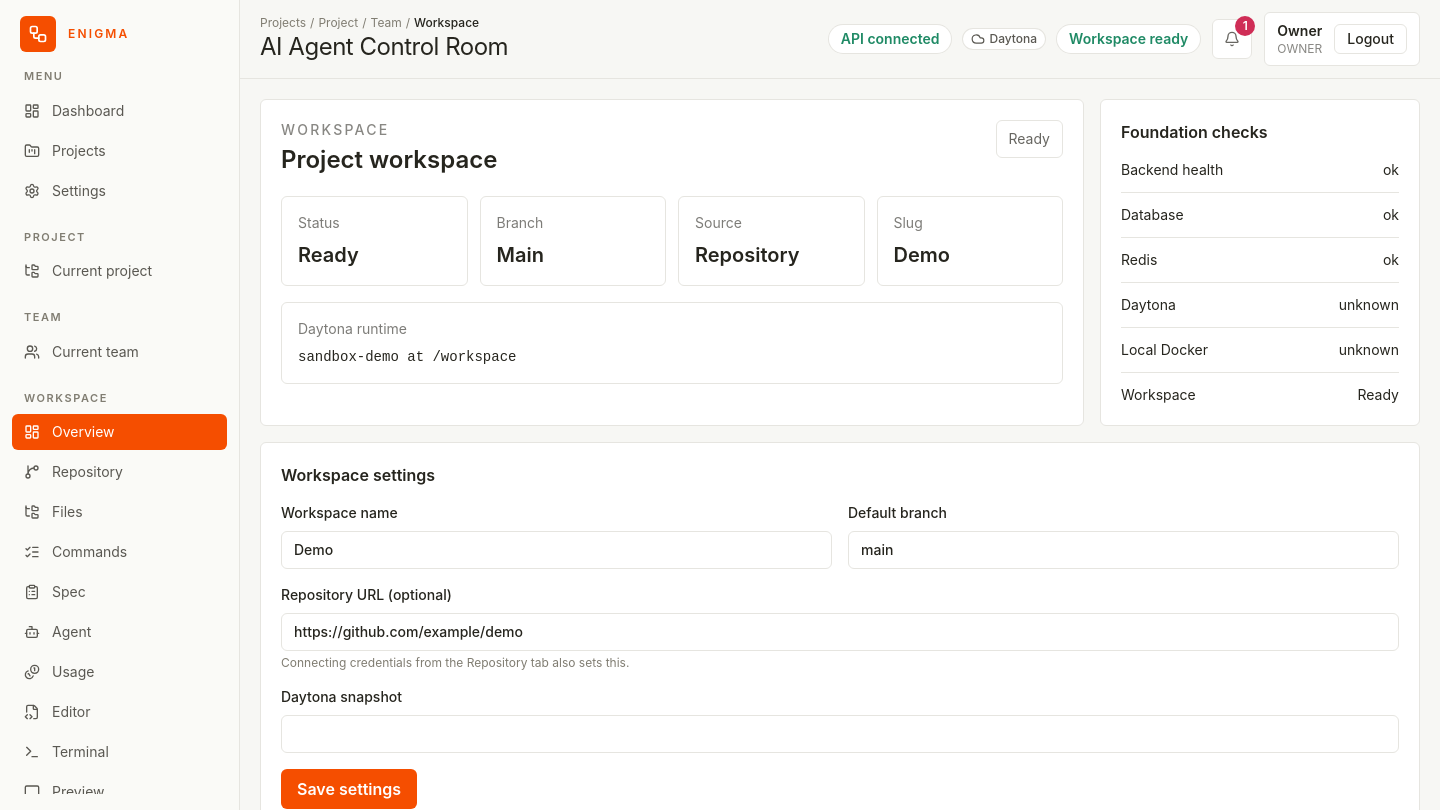
App auth routing › renders notifications and workspace audit logs
What coordinates should you click on to do the following:
click the button named "Notifications"
I would click on:
 (1232, 39)
Its box is [1212, 19, 1252, 59].
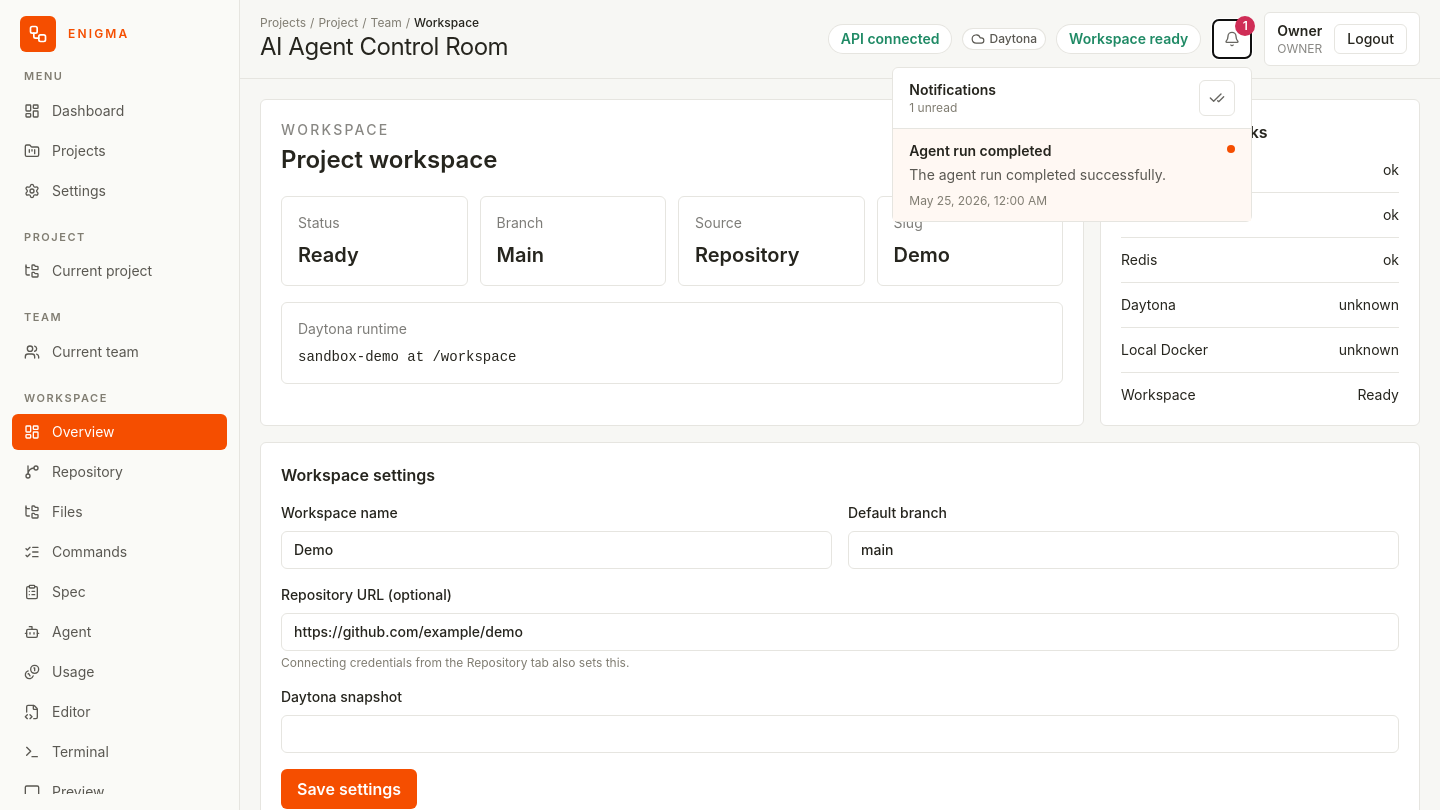
expect the text "Agent run completed" is shown: met
What coordinates should you click on to do the following:
click the text "Agent run completed"
I would click on:
 (980, 151)
Its box is [909, 141, 1051, 161].
(page scrolled)
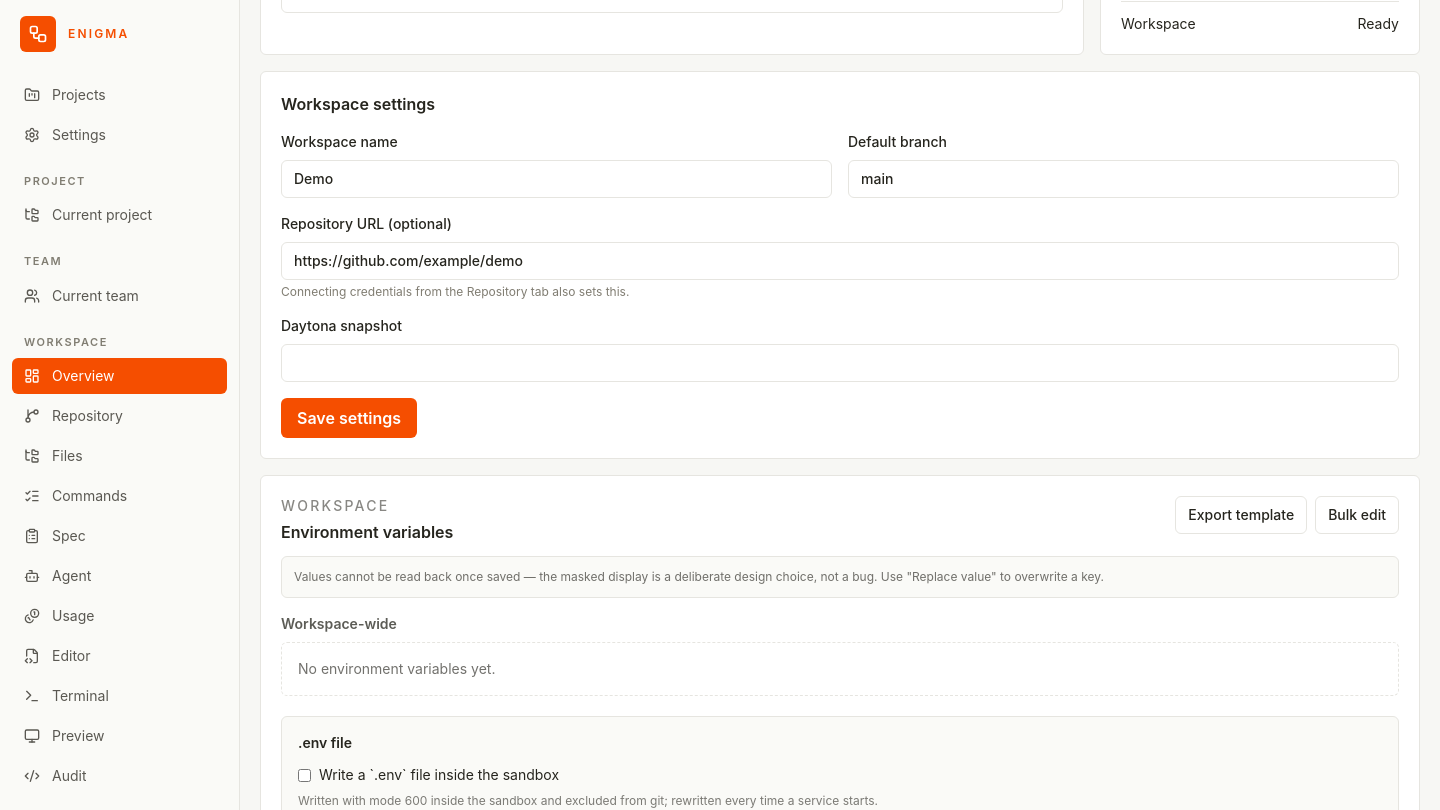
What coordinates should you click on to do the following:
click the link "Audit"
I would click on:
 (55, 776)
Its box is [24, 767, 86, 784].
(page scrolled)
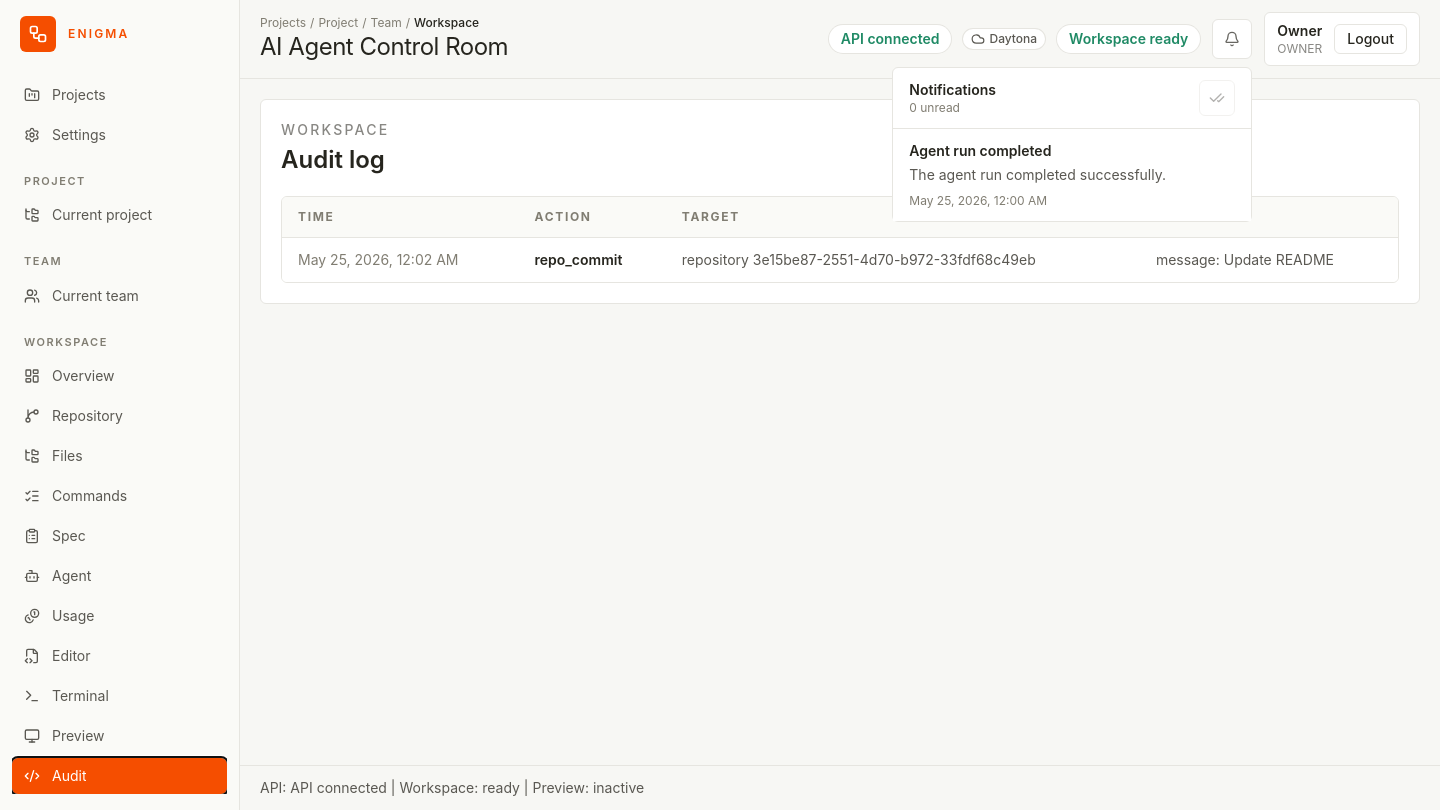
expect the text "repo_commit" is shown: met, box [518, 238, 666, 282]
expect the text "message: Update README" is shown: met, box [1140, 238, 1398, 282]
